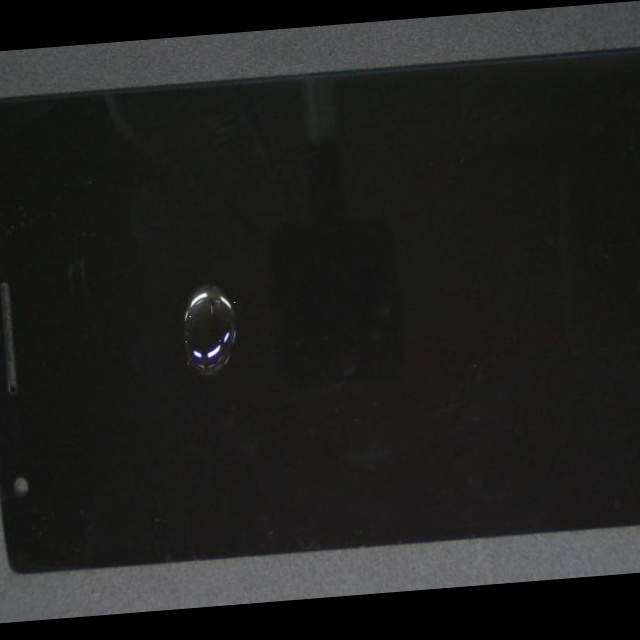oil: (53, 144, 308, 499)
